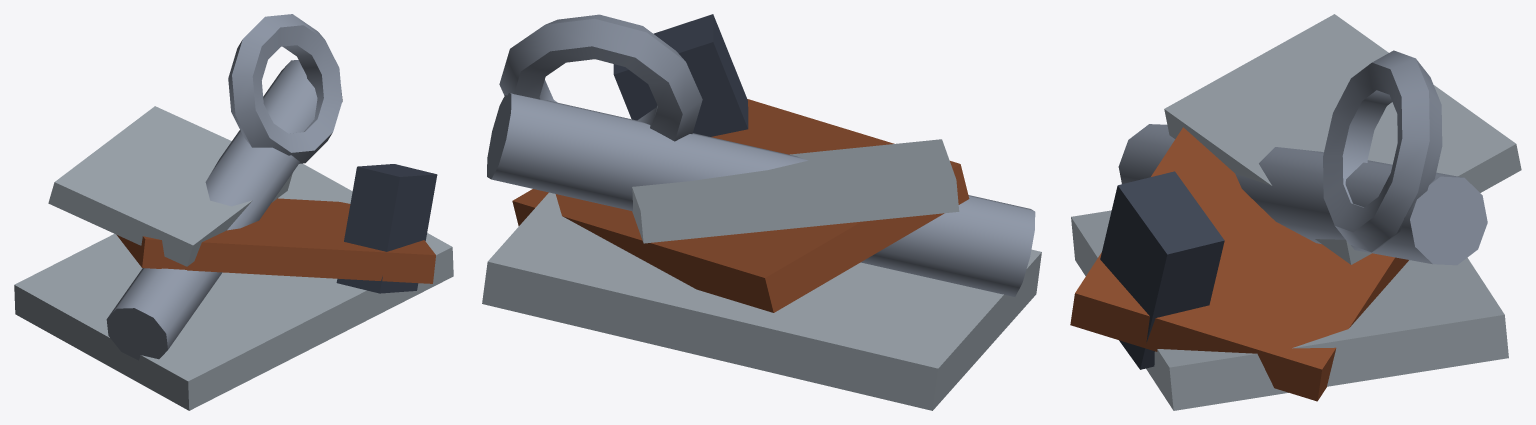
Rendered from item_metall.obj.
3 renders of one model, left to right at view 1: azimuth 30°, elevation 25°; view 2: azimuth 150°, elevation 25°; view 3: azimuth 270°, elevation 25°, orthographic. The views are drawn at different scales.
Parts seen in each view (by area): view 1: item_metall_Koerper; view 2: item_metall_Koerper; view 3: item_metall_Koerper.
Part boxes in pixels (x1,y1,x2,y2): item_metall_Koerper: (14,14,453,410); item_metall_Koerper: (482,14,1041,410); item_metall_Koerper: (1070,14,1521,410).
Bounding box in the file's own units: 0.409 × 0.2785 × 0.3409.
